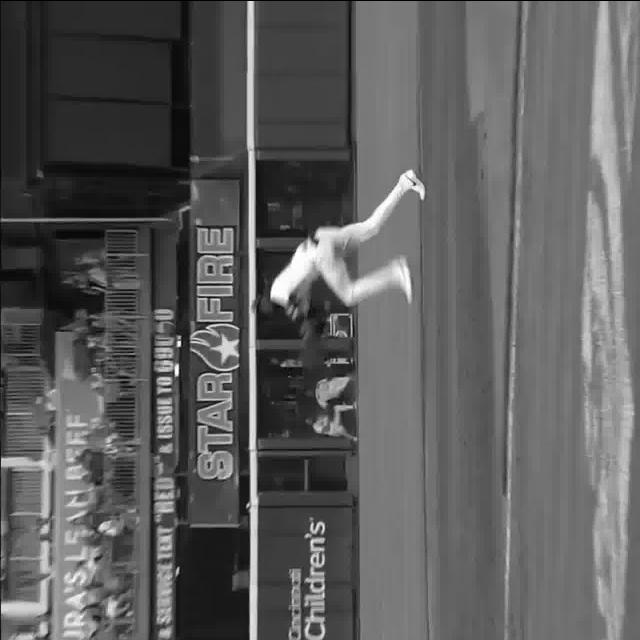baseball_glove: (300, 317, 333, 371)
shoe: (400, 231, 412, 302), (399, 171, 423, 202)
